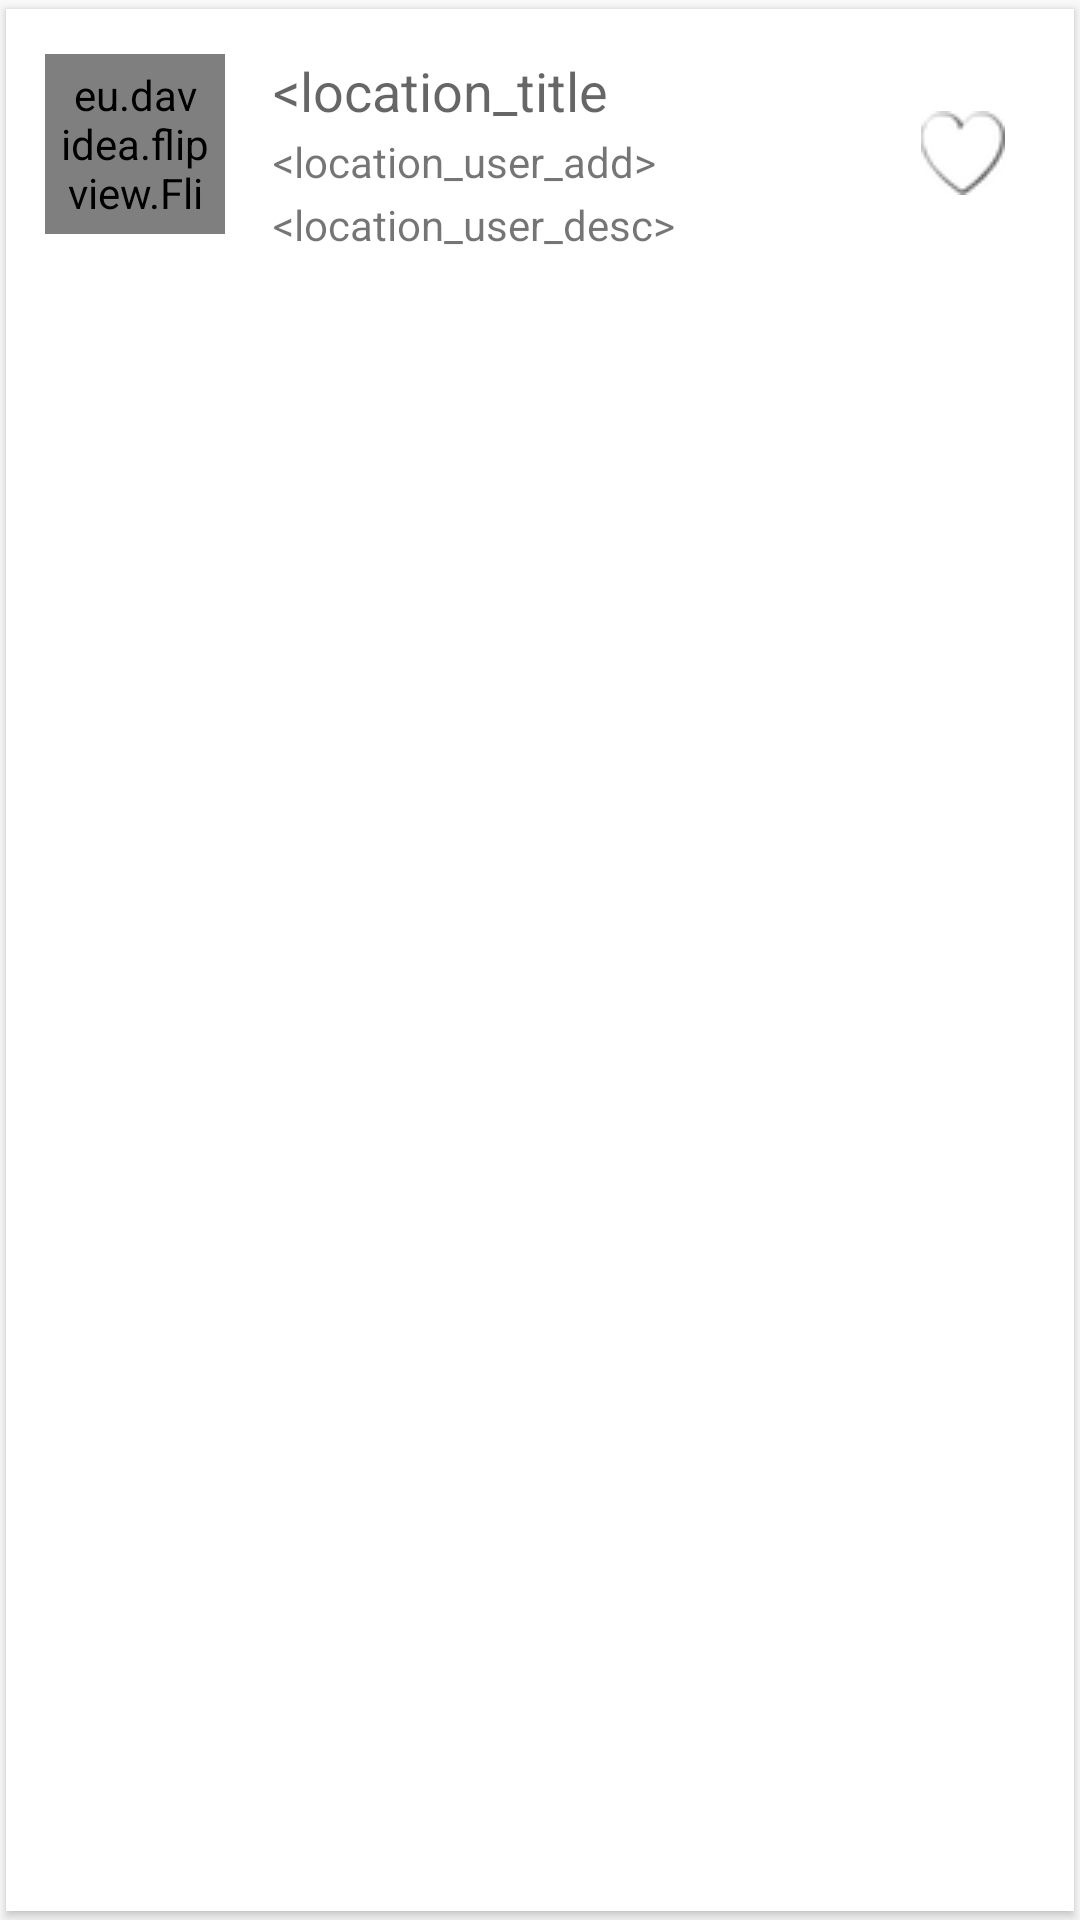

Where to tap for icons on this 1080 x 1920 app screen, as (x=x, y=y):
heart empty: (x=963, y=153)
